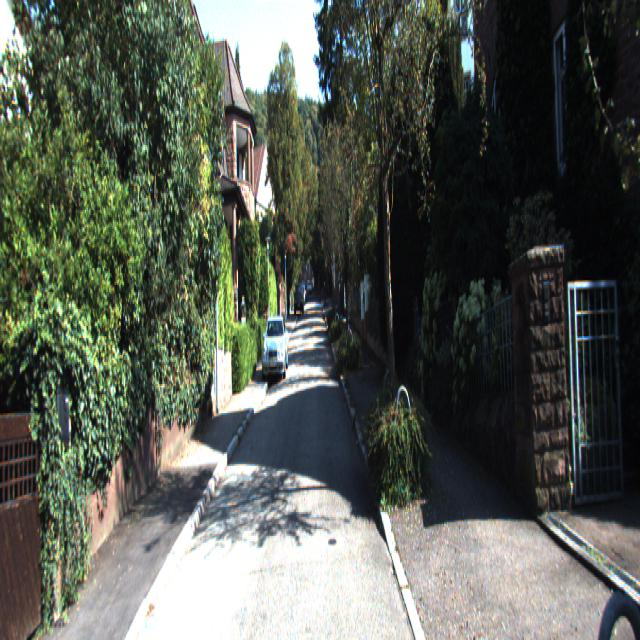Car: (261, 314, 288, 382), (294, 284, 304, 318)
